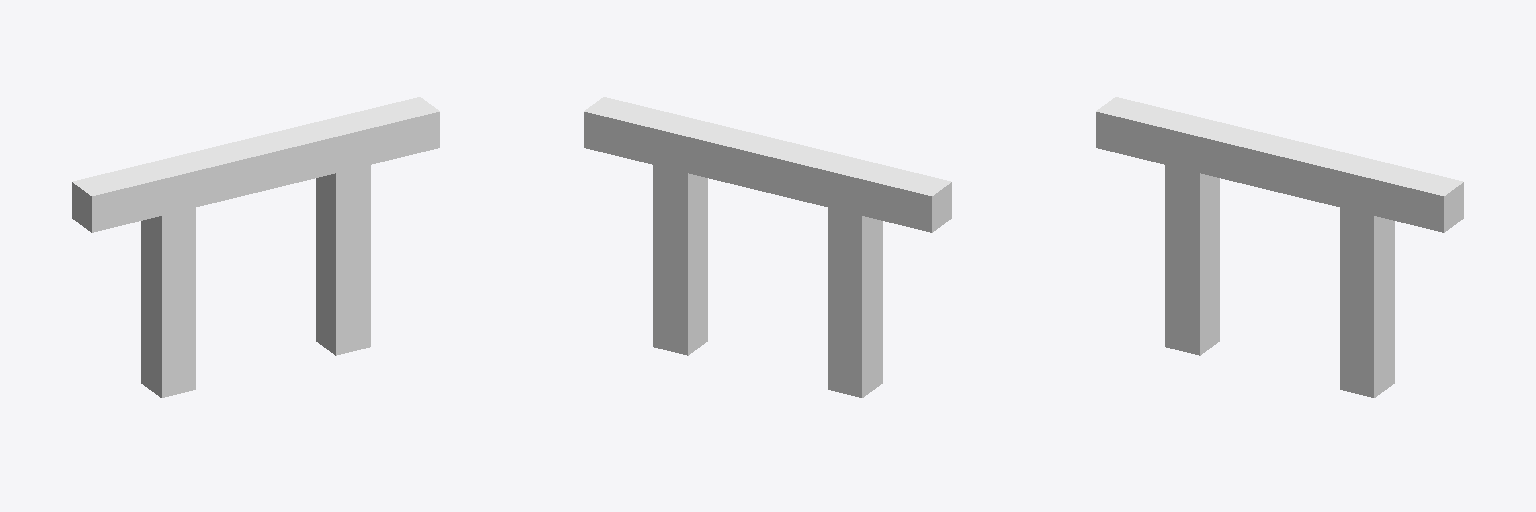
The model's file is rail.obj.
3 renders of one model, left to right at view 1: azimuth 30°, elevation 25°; view 2: azimuth 150°, elevation 25°; view 3: azimuth 330°, elevation 25°, orthographic.
Bounding box in the file's own units: 10 × 6 × 1.